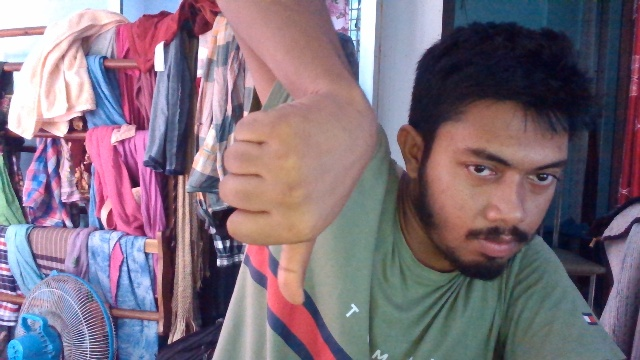no: (210, 94, 384, 307)
